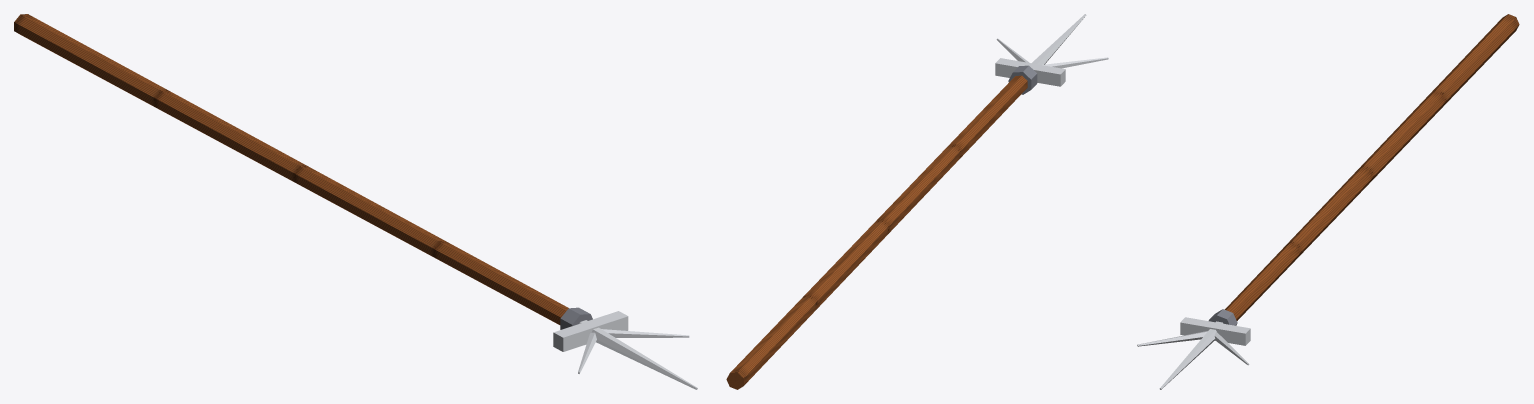
The model's file is legendary-warriors-kit-warrior-trident-648e05ad__39212.glb.
3 renders of one model, left to right at view 1: azimuth 30°, elevation 25°; view 2: azimuth 150°, elevation 25°; view 3: azimuth 330°, elevation 25°, orthographic. The views are drawn at different scales.
Parts seen in each view (by area): view 1: warrior-trident; view 2: warrior-trident; view 3: warrior-trident.
Part boxes in pixels (x1,y1,x2,y2): warrior-trident: (14,14,697,389); warrior-trident: (726,14,1108,389); warrior-trident: (1137,14,1519,389).
Bounding box in the file's own units: 0.3432 × 0.0468 × 1.71.
3 materials, 1 textured.
